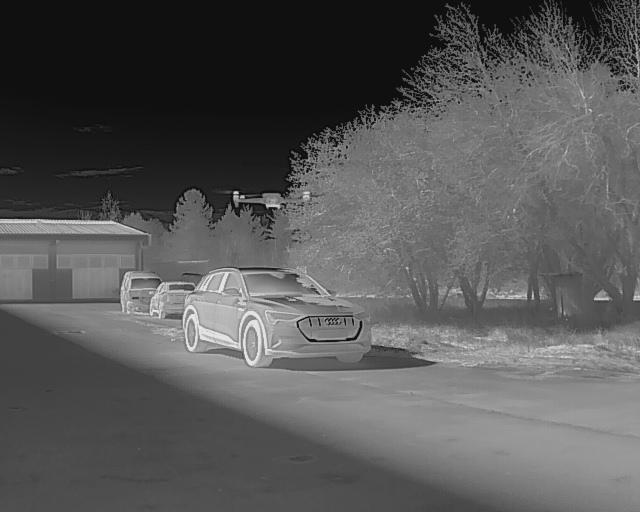drone: (209, 178, 333, 226)
